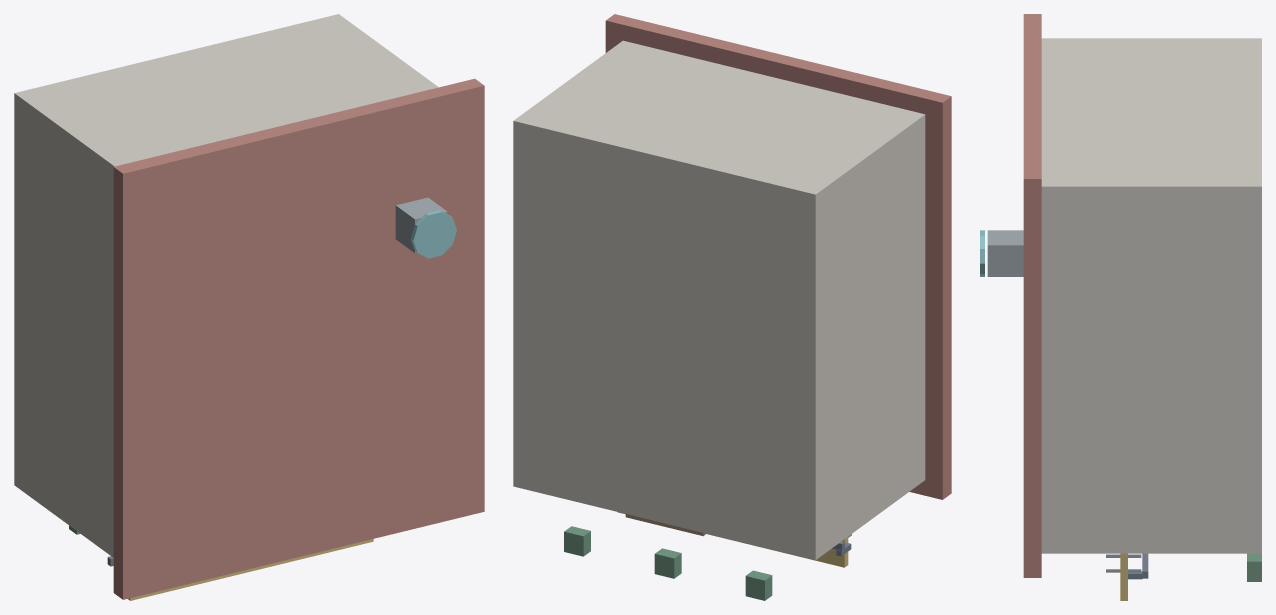
Rendered from workshop.glb.
The picture shows the model from 3 angles, left to right: view 1: azimuth 30°, elevation 25°; view 2: azimuth 150°, elevation 25°; view 3: azimuth 270°, elevation 25°; orthographic projection. The views are drawn at different scales.
Visible parts, largest first — view 1: roof, wall, glass, metal2, sun; view 2: wall, roof, green; view 3: wall, roof, metal2, green, sun.
Boxes of the visible parts, box(x1,y1,x2,y2) form: roof: box(113, 78, 484, 599); wall: box(14, 14, 438, 557); glass: box(411, 210, 456, 258); metal2: box(395, 197, 447, 253); sun: box(128, 539, 373, 600); wall: box(513, 40, 925, 560); roof: box(605, 14, 951, 499); green: box(564, 526, 772, 600); wall: box(1041, 38, 1261, 553); roof: box(1023, 14, 1041, 577); metal2: box(987, 230, 1141, 572); green: box(1247, 553, 1261, 581); sun: box(1120, 553, 1127, 600).
Size of the model in its own units: 7.8 by 9.89 by 5.63.
